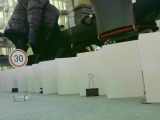speed_30: (7, 48, 28, 68)
